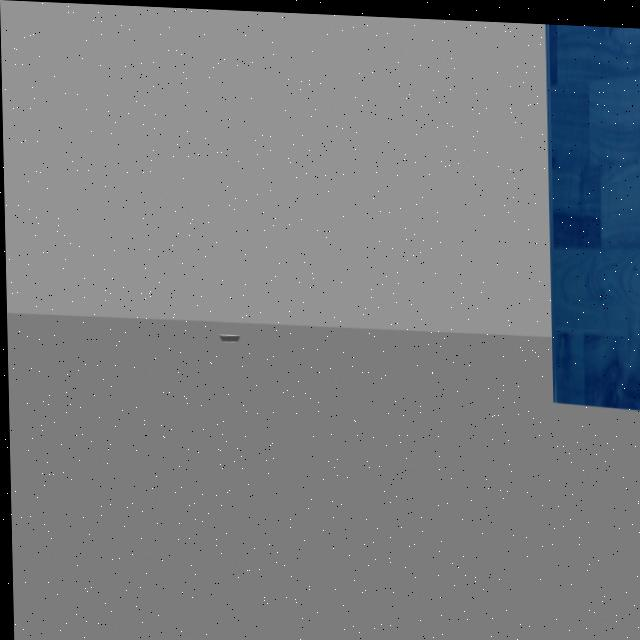bowl: (214, 322, 244, 349)
shelf: (532, 19, 640, 441)
